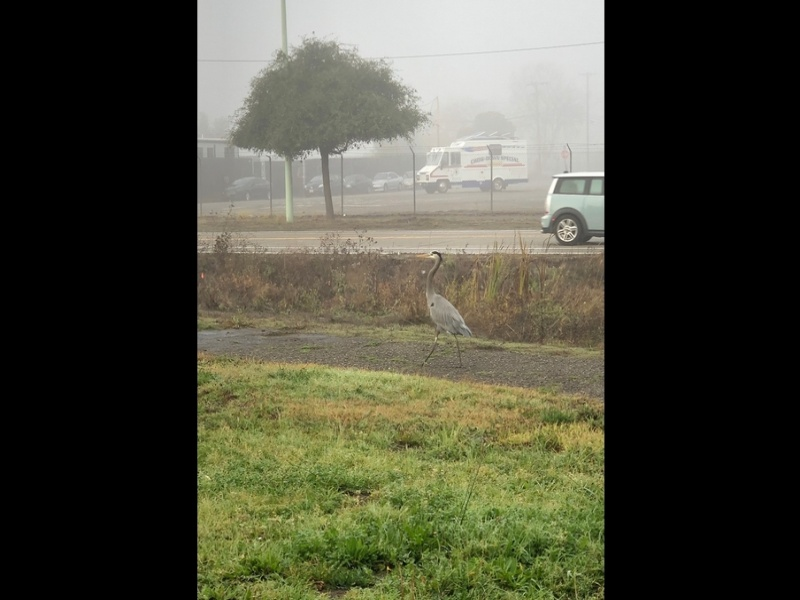heron: (418, 251, 470, 368)
